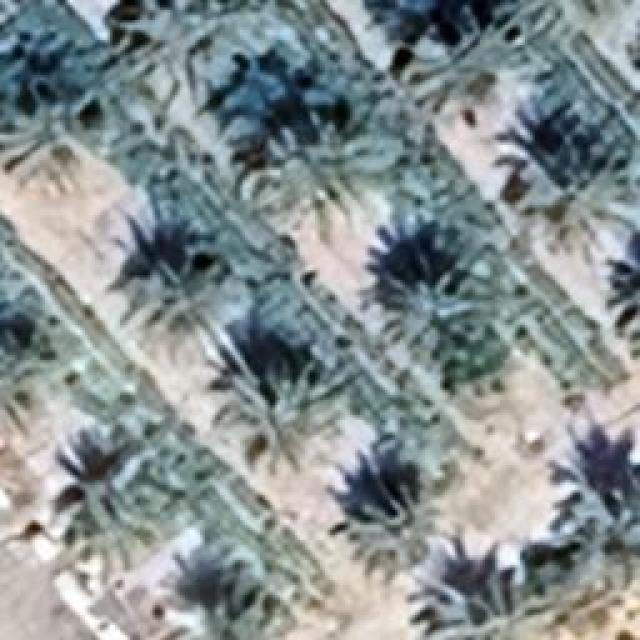PalmTree: (38, 85, 621, 289), (117, 19, 554, 85), (260, 118, 392, 258), (506, 101, 632, 234), (210, 358, 348, 472), (382, 9, 522, 119), (130, 250, 252, 370), (335, 474, 455, 588), (560, 438, 640, 558), (0, 90, 88, 195), (80, 472, 172, 572), (370, 270, 482, 352), (130, 0, 252, 65), (412, 560, 512, 638), (0, 341, 70, 431), (155, 592, 290, 638), (0, 0, 110, 55)
